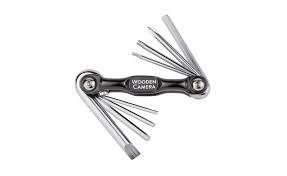screwdriver: (114, 134, 140, 160), (145, 24, 167, 44), (135, 38, 152, 52), (131, 49, 148, 60)
